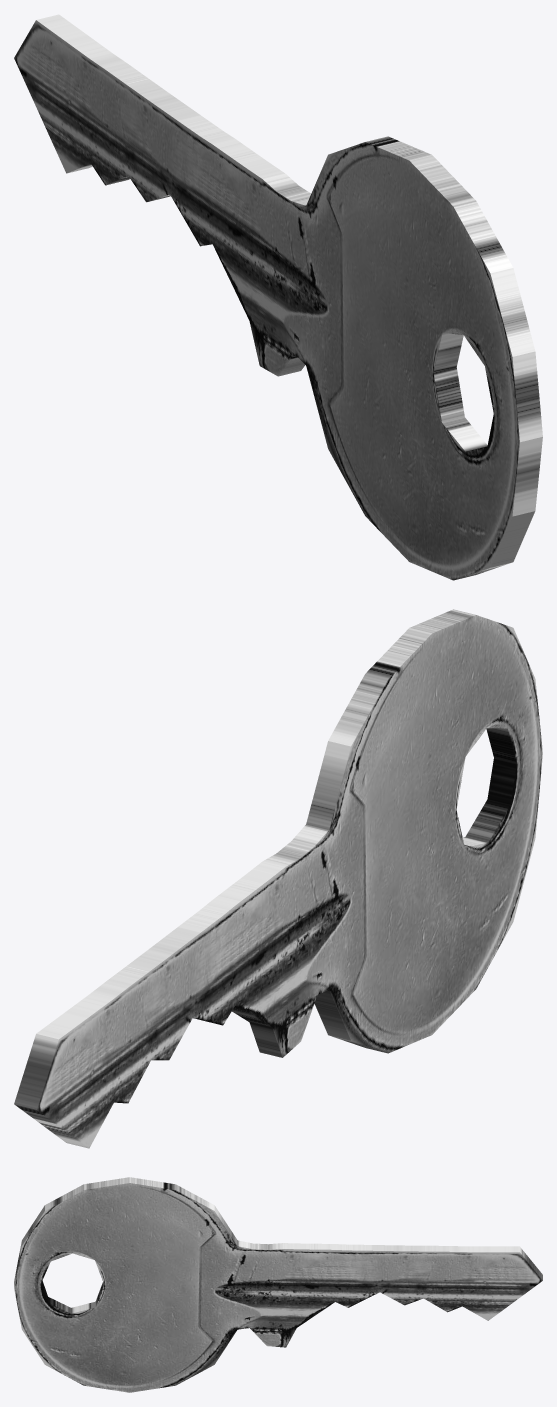
The model's file is key.fbx.
3 views of the same model, one above another, from view 1: azimuth 30°, elevation 25°; view 2: azimuth 150°, elevation 25°; view 3: azimuth 270°, elevation 25° (orthographic). The views are drawn at different scales.
Parts seen in each view (by area): view 1: Plane; view 2: Plane; view 3: Plane.
Boxes of the visible parts, box(x1,y1,x2,y2) form: Plane: box(14, 14, 542, 580); Plane: box(14, 609, 542, 1148); Plane: box(14, 1177, 542, 1392).
Size of the model in its own units: 2.07 by 34.58 by 79.
